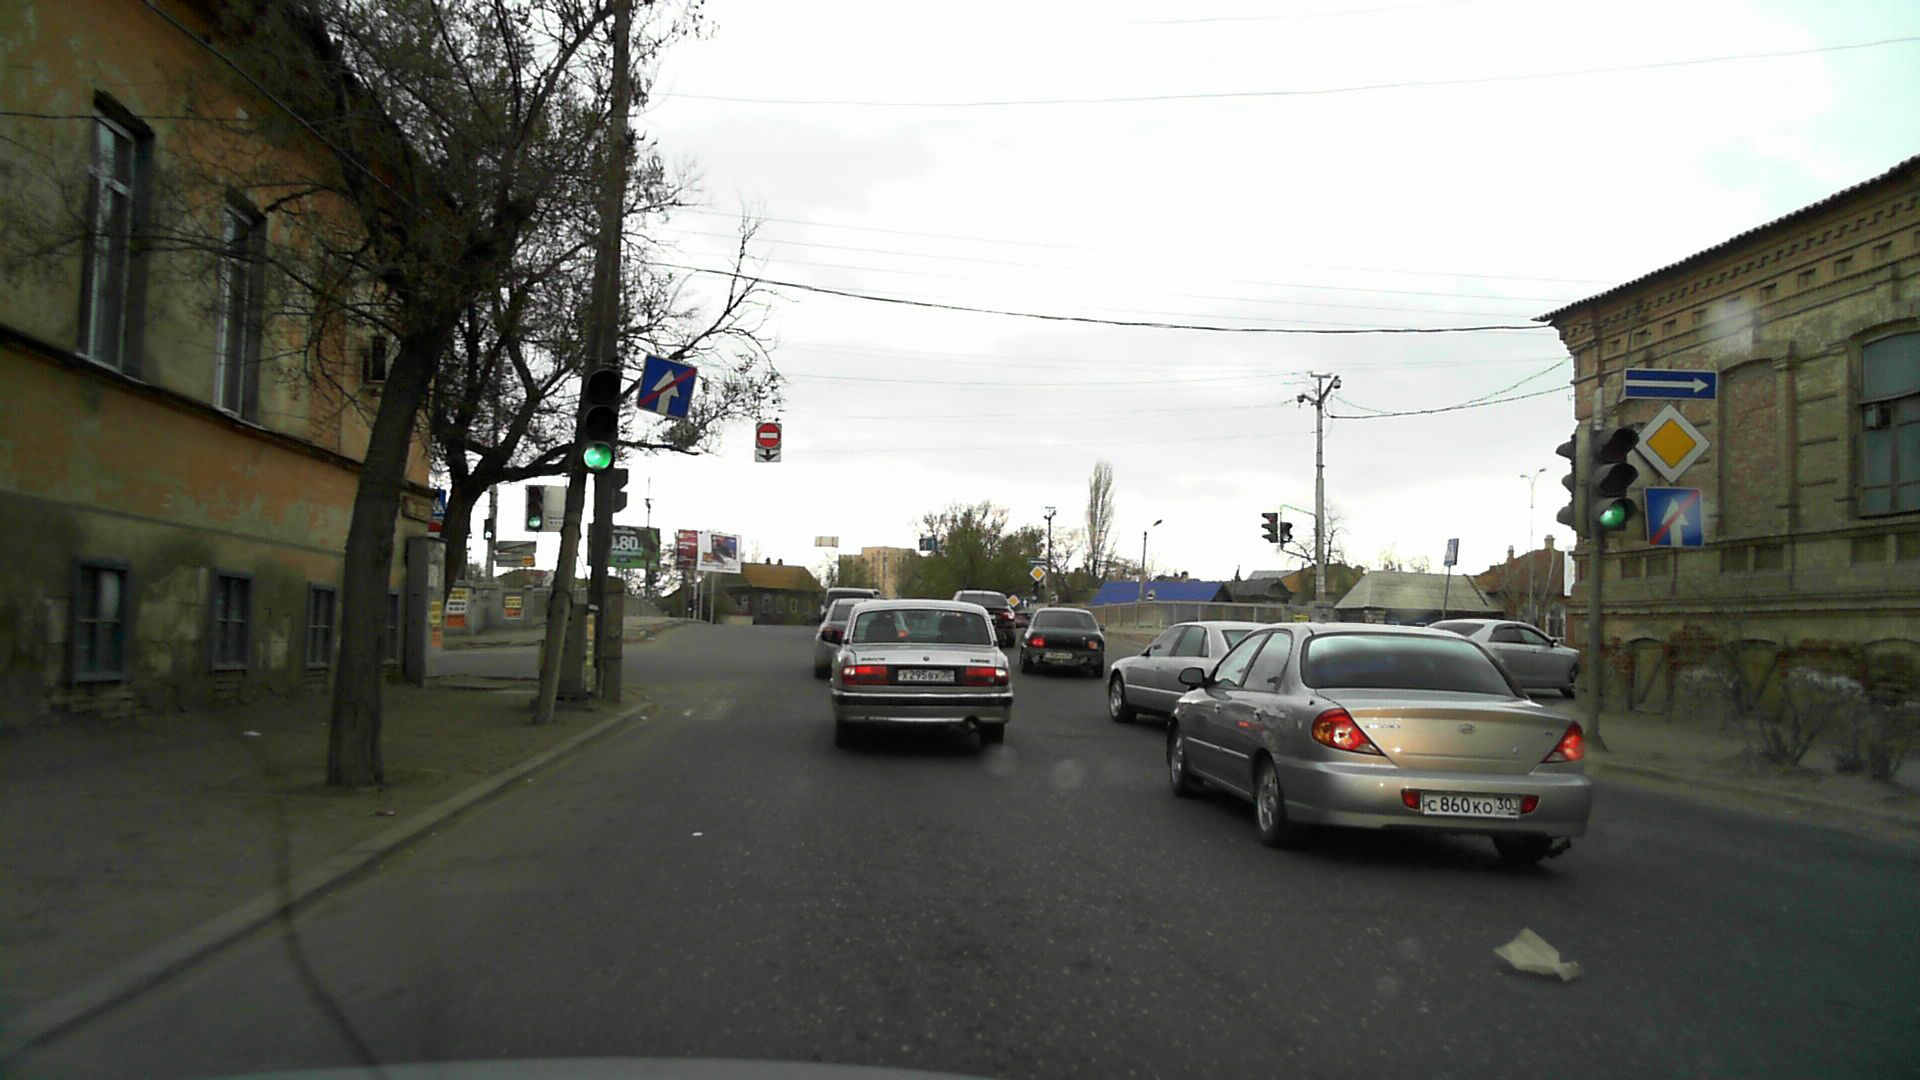One-Way Traffic: (1625, 369, 1717, 400)
